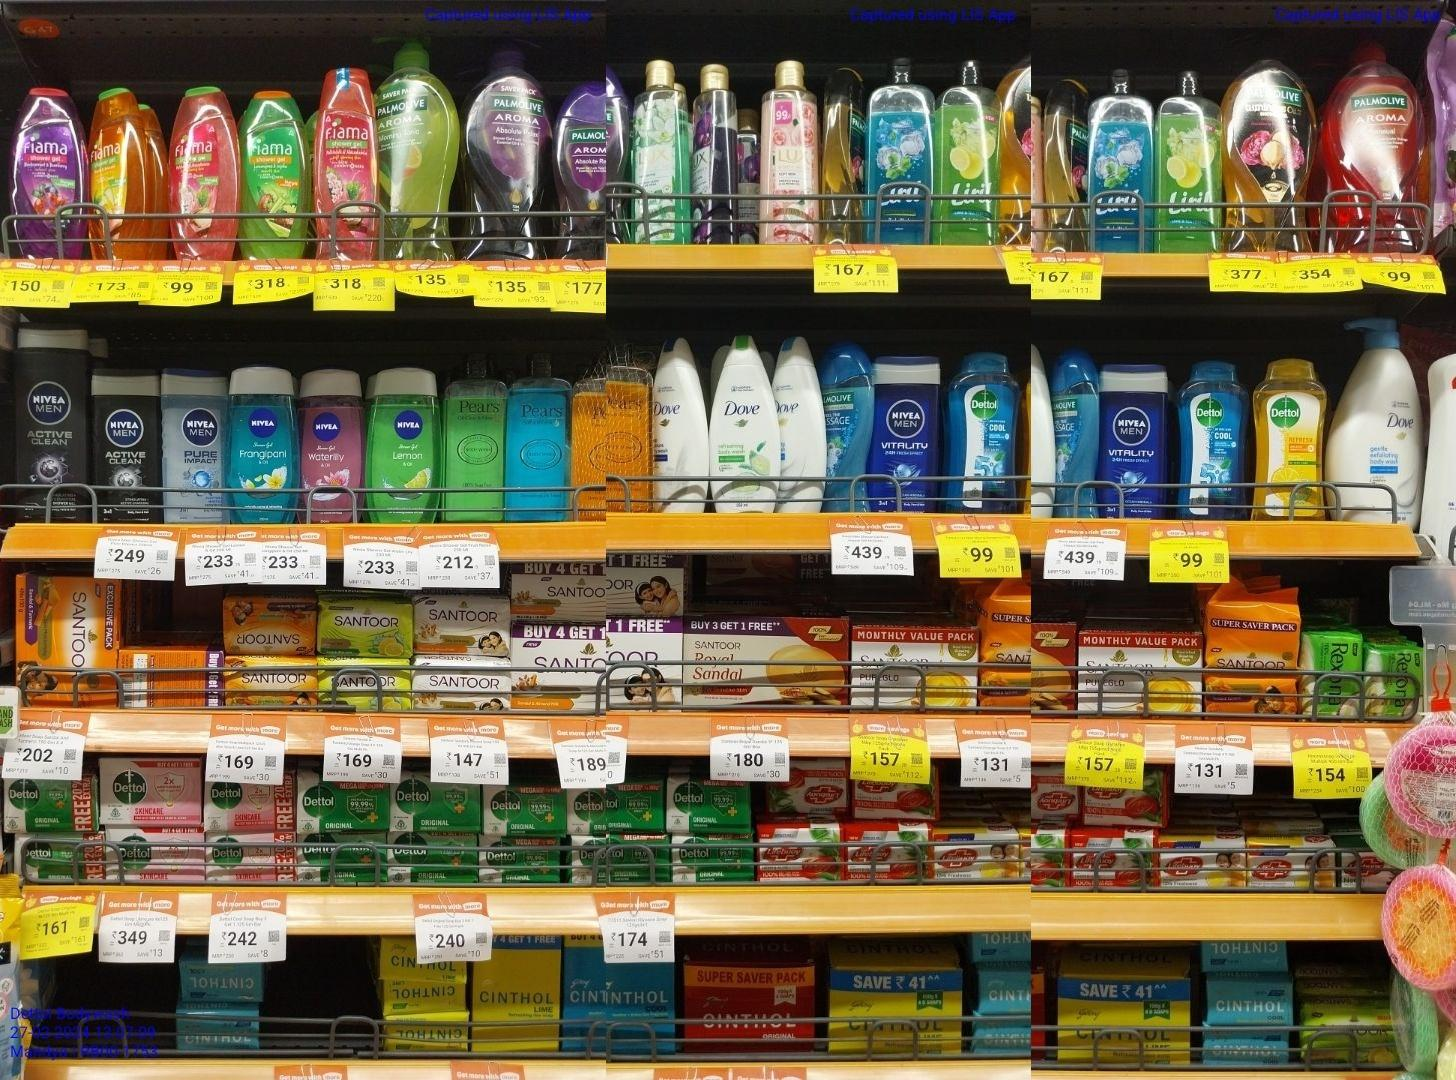Dettol_Bodywash_Cool: (1177, 357, 1248, 518), (945, 351, 1014, 515)
Dettol_Bodywash_Refresh: (1254, 356, 1323, 523)
Dove_Deep_Moisture_Body_Wash_250ML: (657, 336, 706, 517)
Dove_Gentle_Exfoliating_Body_Wash_250ML: (779, 335, 821, 516)
Dove_Refreshing_Body_Wash_250ML: (711, 331, 778, 516)
Fiama_Shower_Gel_Lemongrass_and_Jojoba_250ML: (243, 86, 306, 263)
Fiama_Shower_Gel_Patchouli_and_Macadamia_250ML: (316, 67, 375, 267), (171, 83, 234, 260)
Fiama_Shower_Gel_Peach_and_Avocado_250ML: (88, 82, 150, 262)
Liril_Cooling_Mint_Body_Wash_250ML: (866, 53, 931, 243), (1091, 68, 1153, 255)
Liril_Lime_and_Tea_Tree_Oil_Body_Wash_250ML: (1159, 66, 1220, 252), (939, 53, 997, 245)
Lux_Black_Orchid_Scent_and_Juniper_Oil_Body_Wash_245ML: (691, 61, 736, 247)
Lux_Body_Wash_Skin_Detox_Freesia_Scent_and_Alove_Vera_245ML: (632, 60, 687, 247)
Nivea_Shower_Gel_Frangipani_and_Oil_250ML: (228, 361, 296, 526)
Nivea_Shower_Gel_Lemon_and_Oil_250ML: (366, 363, 440, 525)
Nivea_Shower_Gel_Waterlily_and_Oil_250ML: (303, 363, 363, 526)
Palmolive_Aroma_Moments_Feel_The_Massage_Shower_Gel_250ML: (822, 337, 870, 513), (1051, 348, 1099, 518)
Palmolive_Aroma_Relax_250ML: (551, 79, 617, 262)
Pears_Pure_Glycerin_and_Lemon_Flower_Extracts_Body_Wash_250ML: (446, 354, 502, 523)
Pears_Pure_Glycerin_and_Mint_Extracts_Body_Wash_250ML: (505, 351, 570, 523)
